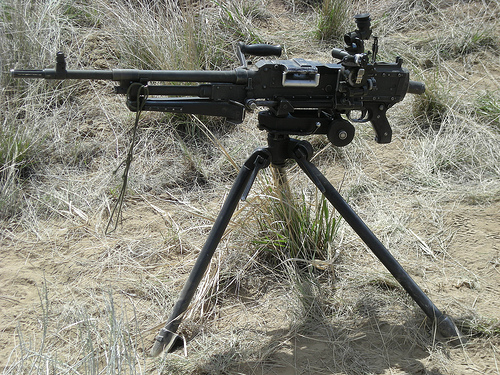rifle: (9, 35, 481, 350)
